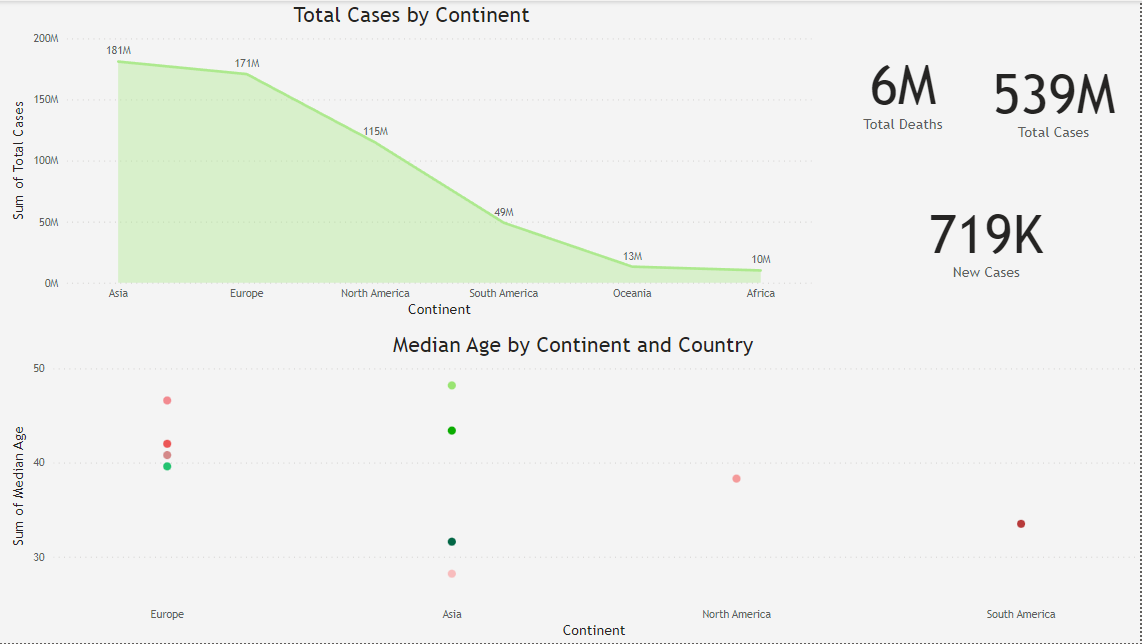

What the dashboard file says about the page in this screenshot:
{"tool":"powerbi","page":{"name":"Page 2","canvas":[1280,720],"ordinal":1},"visuals":[{"type":"areaChart","title":"Total Cases by Continent","fields":{"Category":["Covid Final.Continent"],"Y":["Sum(Covid Final.Total Cases)"]},"box":[10,0,907.5,360],"z":0},{"type":"lineChart","title":"Median Age by Continent and Country","fields":{"Category":["Covid Final.Continent"],"Y":["Sum(Covid Final.Median Age)"],"Series":["Covid Final.Country"]},"box":[10,370,1270,350],"z":1000},{"type":"card","fields":{"Values":["Sum(Covid Final.Total Cases)"]},"box":[1086.2,0,193.8,217.5],"z":2000},{"type":"card","fields":{"Values":["Sum(Covid Final.Total Deaths)"]},"box":[921.2,0,187.5,198.8],"z":3000},{"type":"card","fields":{"Values":["Sum(Covid Final.New Cases)"]},"box":[1012.5,180,191.2,171.2],"z":4000}]}

Visuals, with their boxes in screenshot pixels (x1, y1, x2, y2), scaled from the page's 1280x720 canvas onto the 1142x644 screenshot:
"Total Cases by Continent" areaChart: locate(9, 0, 819, 322)
"Median Age by Continent and Country" lineChart: locate(9, 331, 1141, 643)
card - Sum(Covid Final.Total Cases): locate(969, 0, 1141, 195)
card - Sum(Covid Final.Total Deaths): locate(822, 0, 989, 178)
card - Sum(Covid Final.New Cases): locate(903, 161, 1074, 314)
